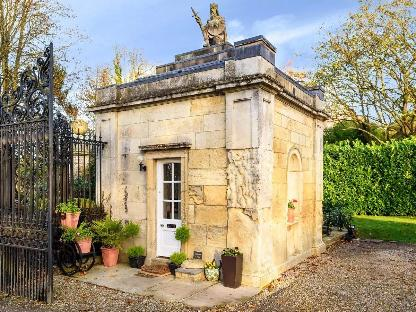door: (140, 141, 195, 264)
